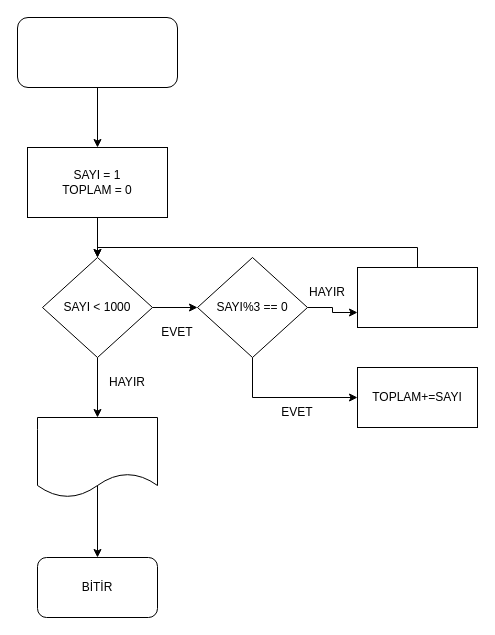
Image size: 495x635. Some labels were removed from this diagram. Each missing label, with the centre of its shape:
BAŞLA: point 97,52
SAYI = SAYI +1: point 417,297
TOPLAM: point 97,457
